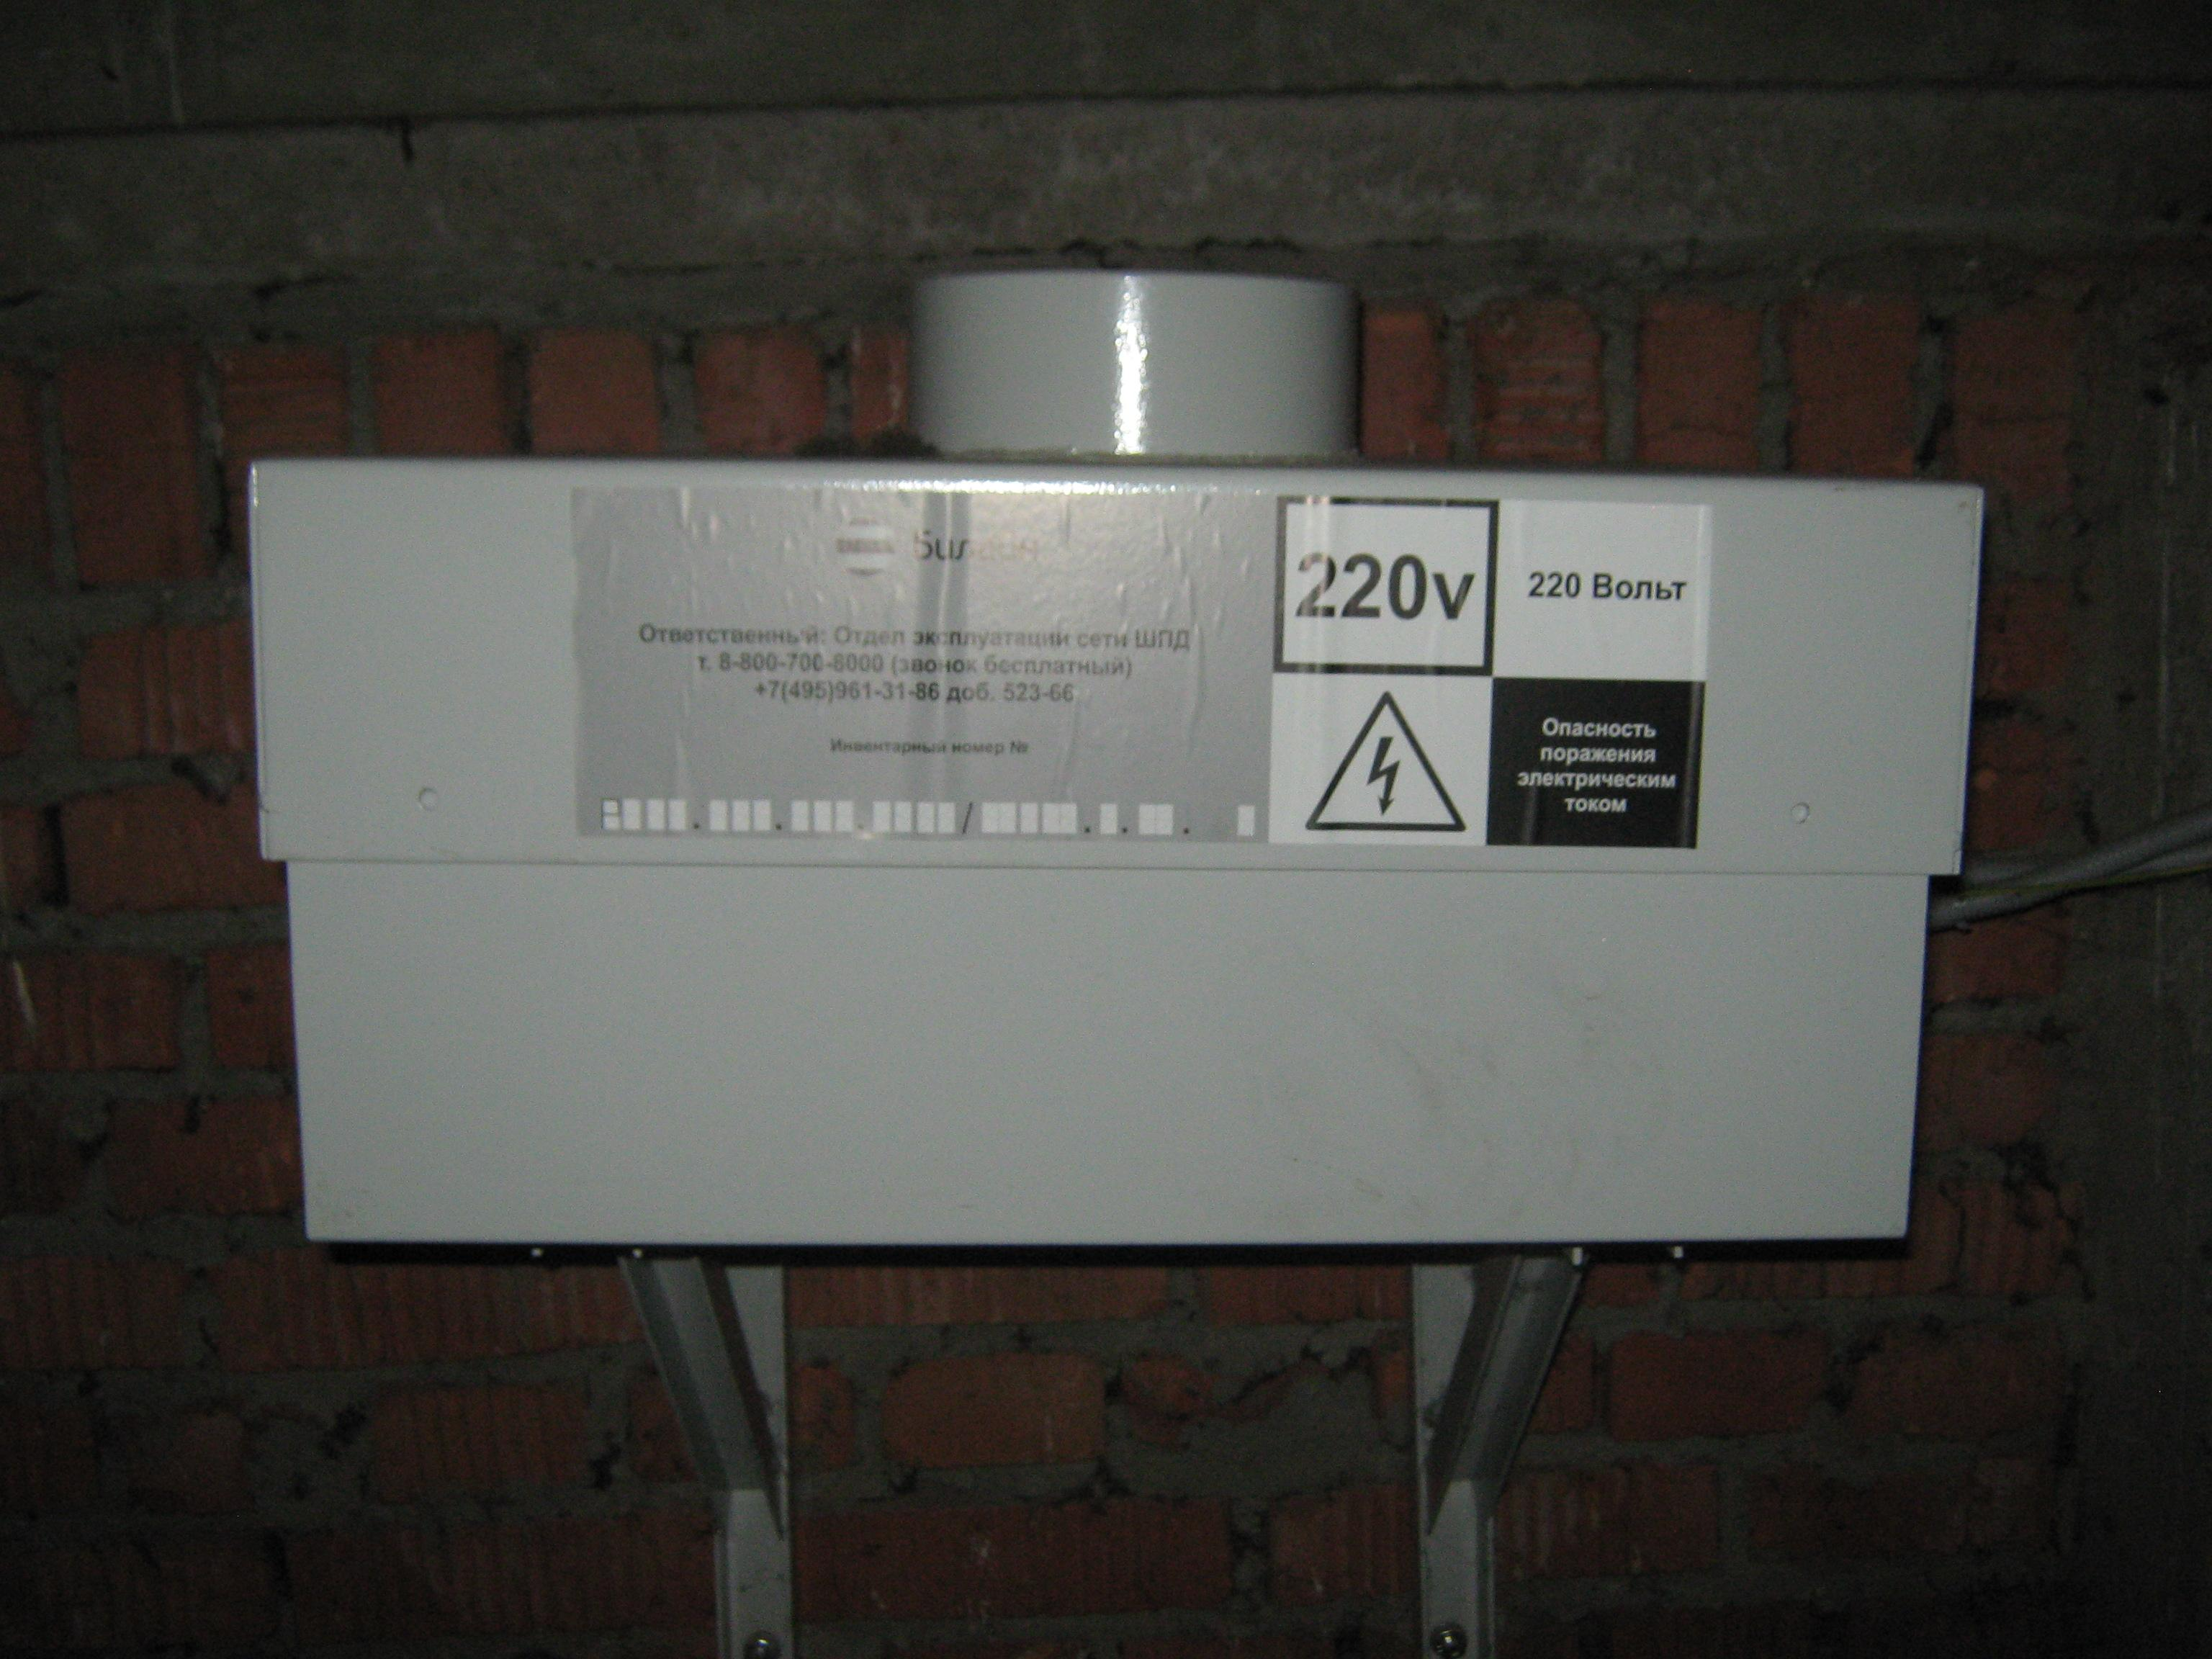shta-ps: (218, 221, 2015, 1276)
